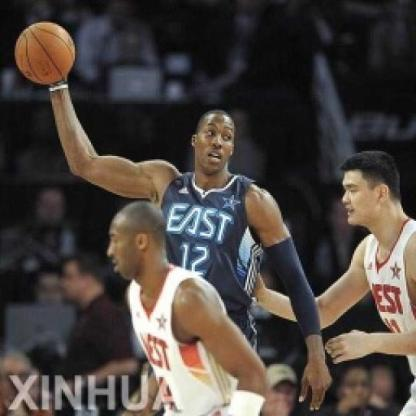basketball: (14, 23, 77, 83)
